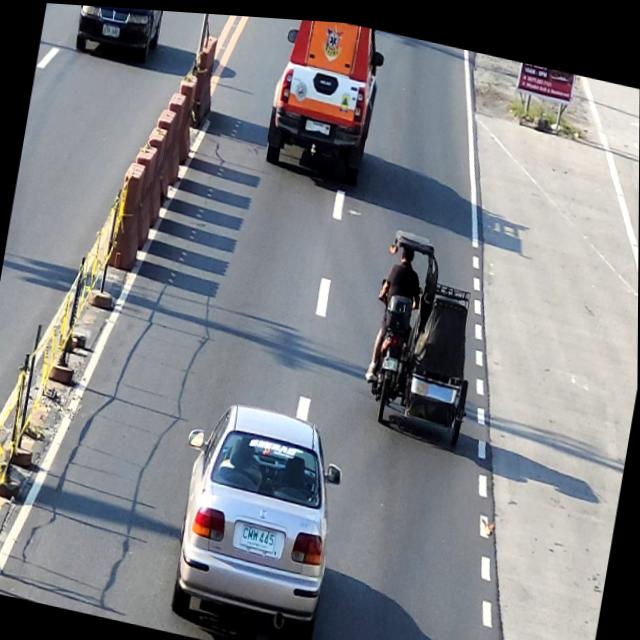Car: (157, 388, 350, 640), (262, 14, 388, 180), (74, 4, 168, 67)
License-Plate: (240, 522, 277, 549), (305, 115, 331, 131), (381, 350, 399, 366), (102, 22, 120, 36)
Tricycle: (359, 219, 493, 442)
